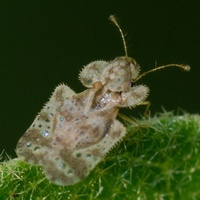insect: (0, 16, 189, 185), (112, 117, 194, 199)
